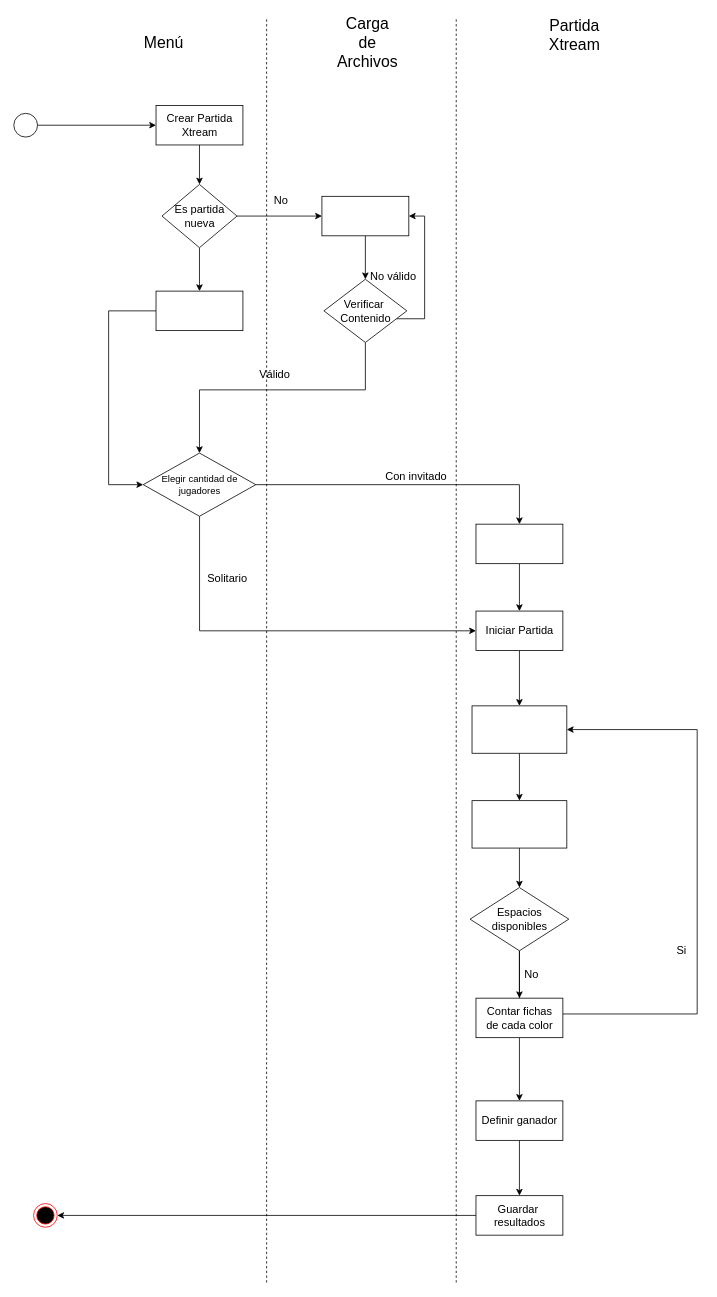
Image size: 717x1297. Some labels were removed from this diagram. Each missing label, with the centre of its shape:
"Cambiar Fichas Encerradas" goes at (519,824).
"Cargar Archivo XML" goes at (365,216).
"Definir Nombre del invitado" goes at (519,543).
"Definir Reglas" goes at (199,310).
"Poner Ficha" goes at (519,729).
